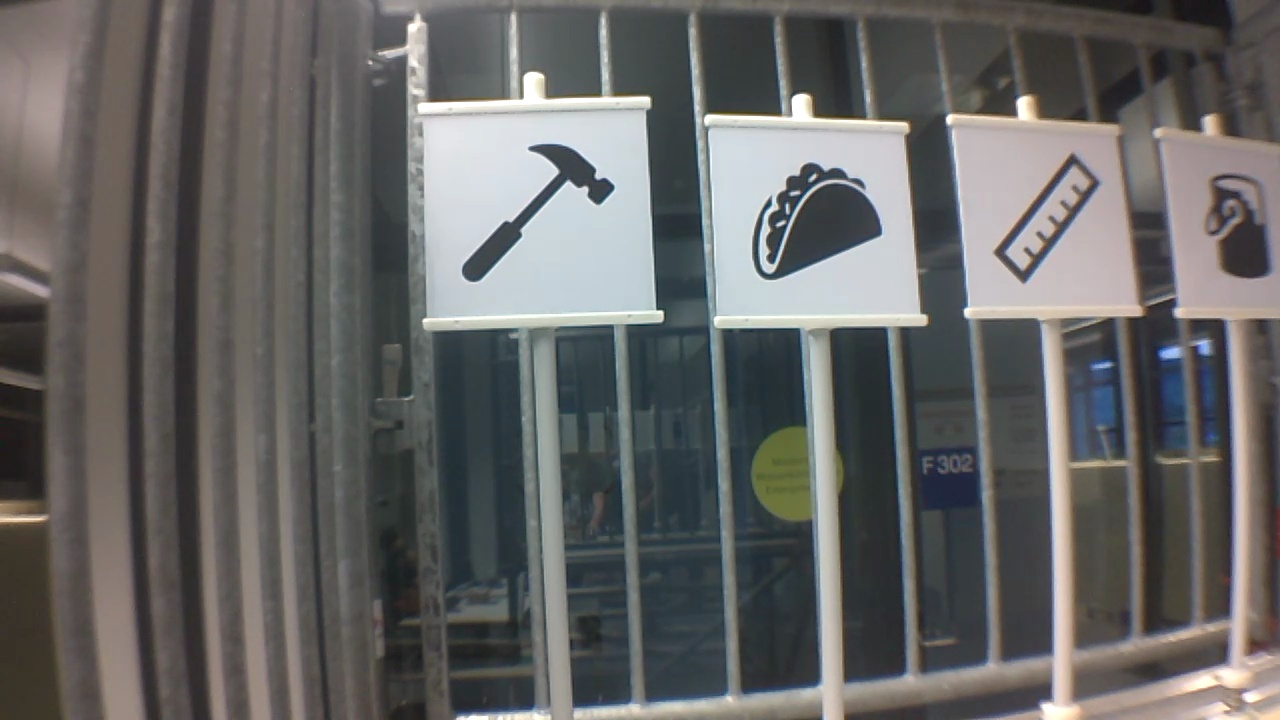bucket: (1197, 169, 1276, 284)
hammer: (455, 137, 616, 288)
ruler: (987, 148, 1106, 291)
taco: (746, 157, 887, 285)
